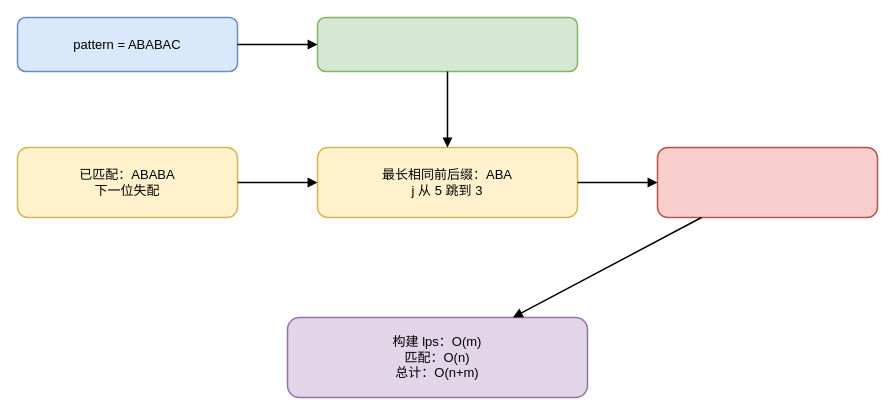
The diagram is 896 pixels wide and 416 high, and some of its shapes have lost their labels. The box of each missing label's shape, as (x1, y1, x2, y2) in pixels:
lps = [0,0,1,2,3,0]: (316, 16, 578, 72)
文本指针 i 不回退 复用已匹配信息: (656, 146, 878, 218)
